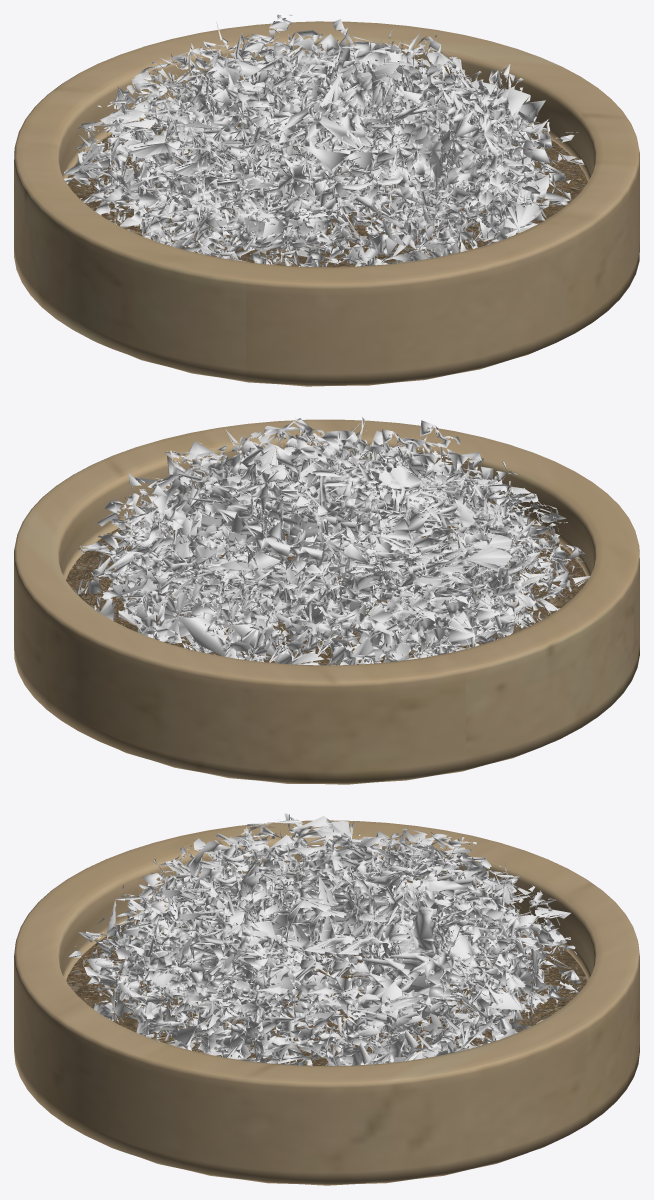
The model's file is JardineroJacaranda.fbx.
The picture shows the model from 3 angles, top to bottom: view 1: azimuth 30°, elevation 25°; view 2: azimuth 150°, elevation 25°; view 3: azimuth 270°, elevation 25°; orthographic projection.
Visible parts, largest first — view 1: Cylinder, Object_4.001, Object_4; view 2: Cylinder, Object_4.001, Object_4; view 3: Cylinder, Object_4.001, Object_4.
Part boxes in pixels (box(x1,y1,x2,y2)): Cylinder: box(14, 21, 639, 386); Object_4.001: box(64, 14, 584, 266); Object_4: box(82, 36, 546, 266); Cylinder: box(14, 419, 639, 784); Object_4.001: box(77, 417, 590, 665); Object_4: box(104, 429, 565, 665); Cylinder: box(14, 820, 639, 1185); Object_4.001: box(69, 813, 580, 1065); Object_4: box(87, 835, 556, 1065).
Size of the model in its own units: 168 by 61.63 by 168.
